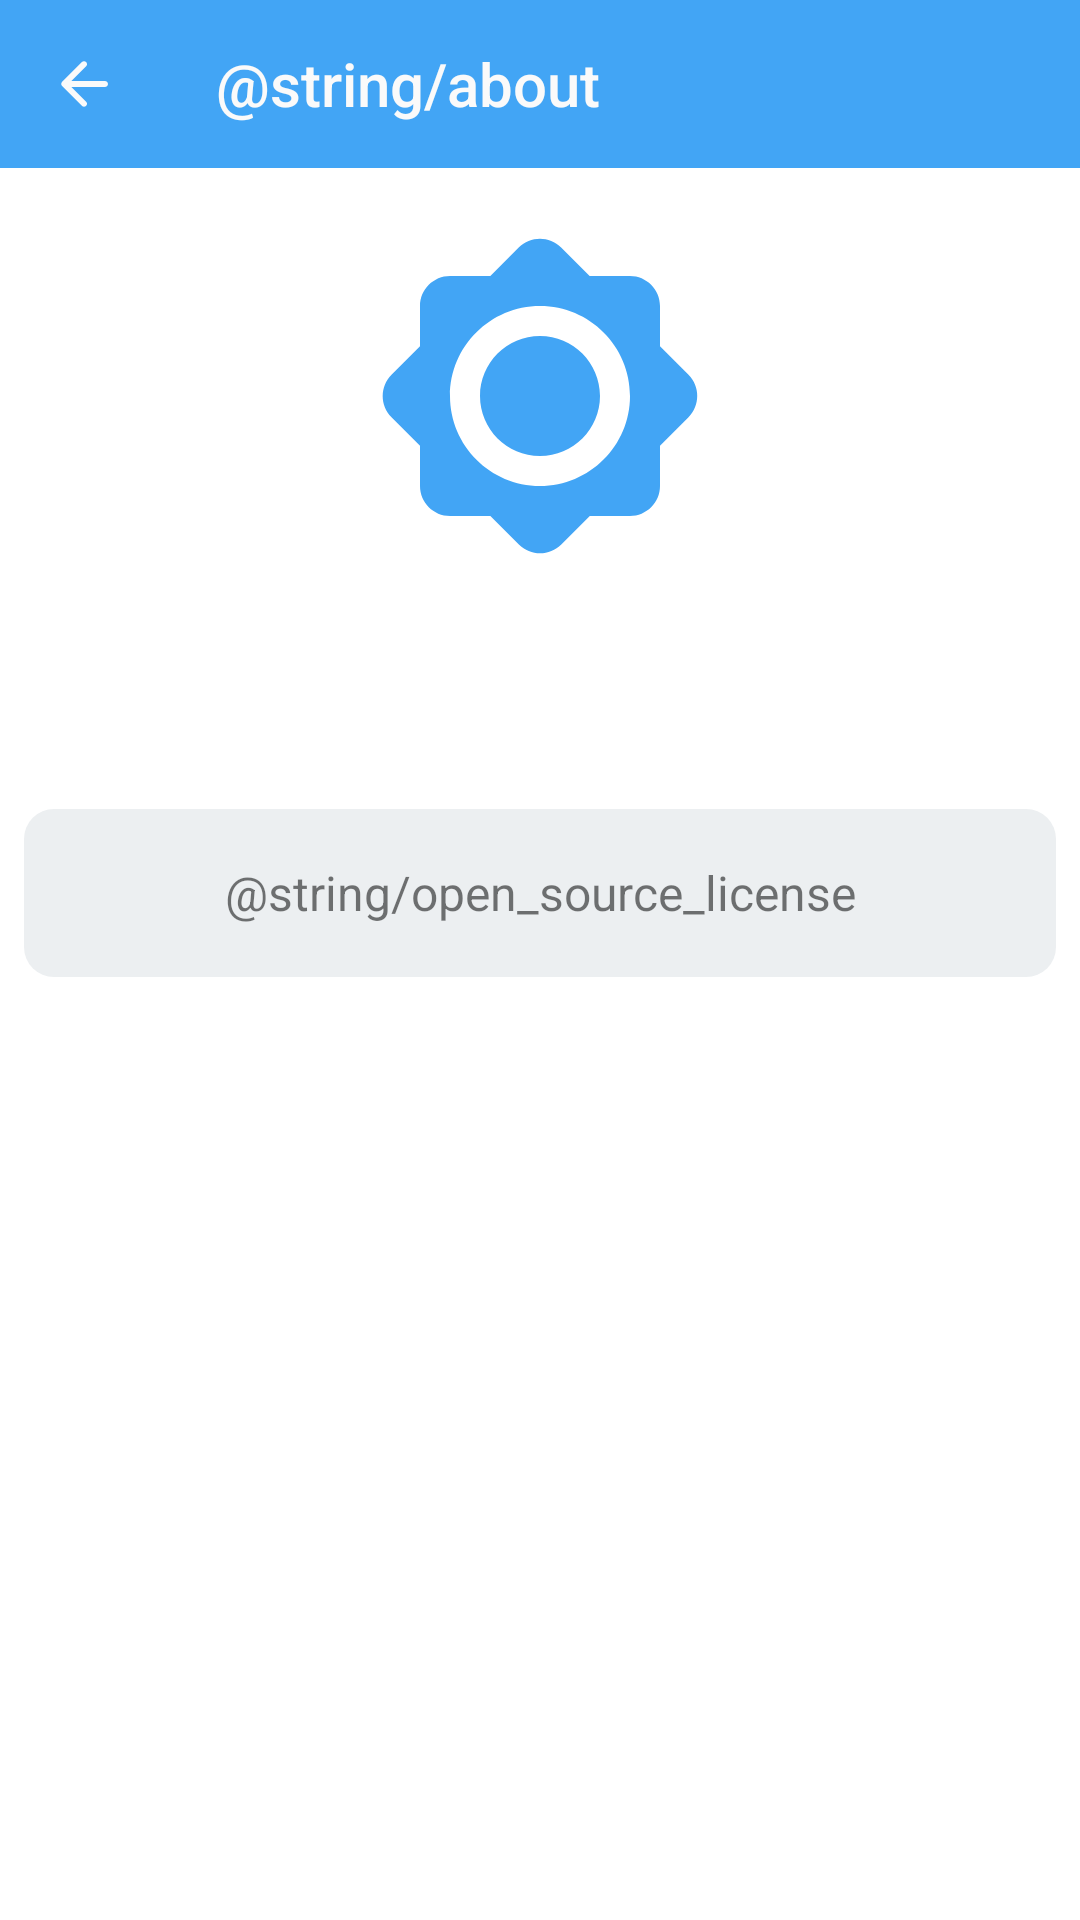

Point at icon controls on the screen. Image size 1080×1920, points as (x=x, y=y).
sun: (x=540, y=396)
